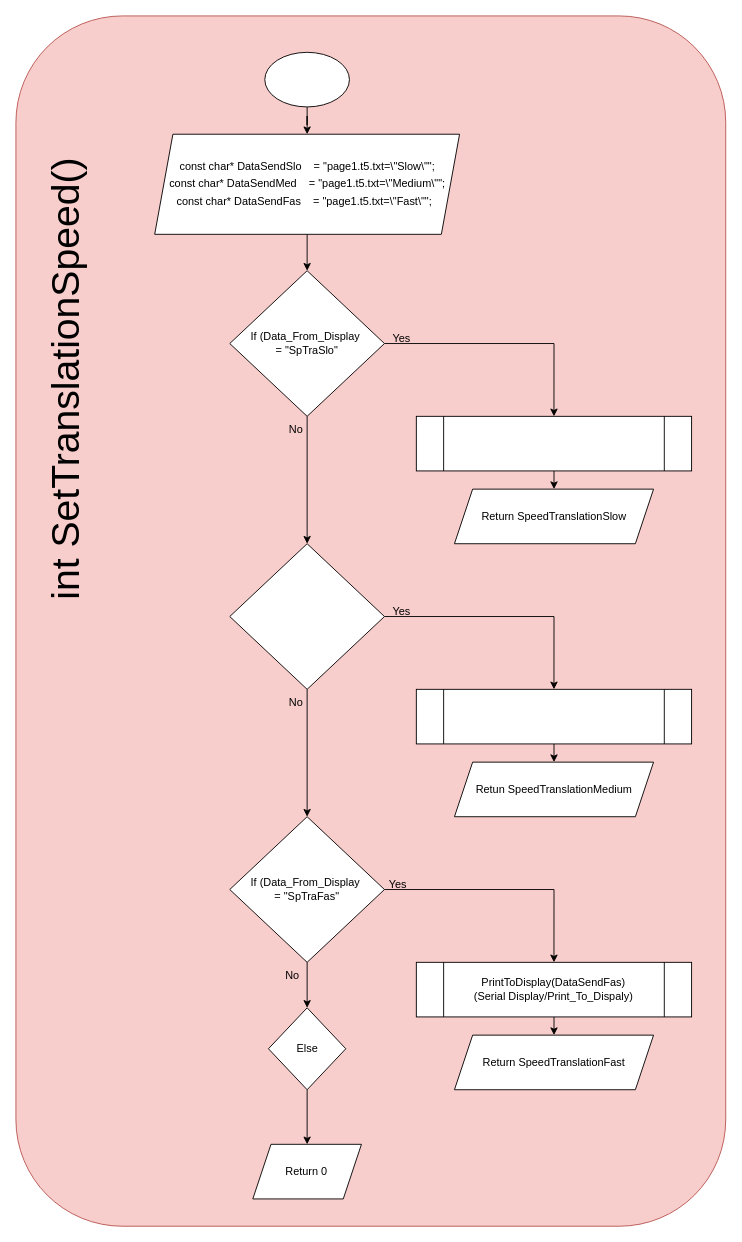
Some shapes in this 742 by 1242 pixel diagram are drawn without their labels. The centre of each missing label's shape, as x and y in pixels:
If (Data_From_Display = "SpTraMed": pixel 306 616
PrintToDisplay(DataSendMed ) (Serial Display/Print_To_Dispaly): pixel 553 716
PrintToDisplay(DataSendSlo ) (Serial Display/Print_To_Dispaly): pixel 553 443
Start: pixel 306 79
